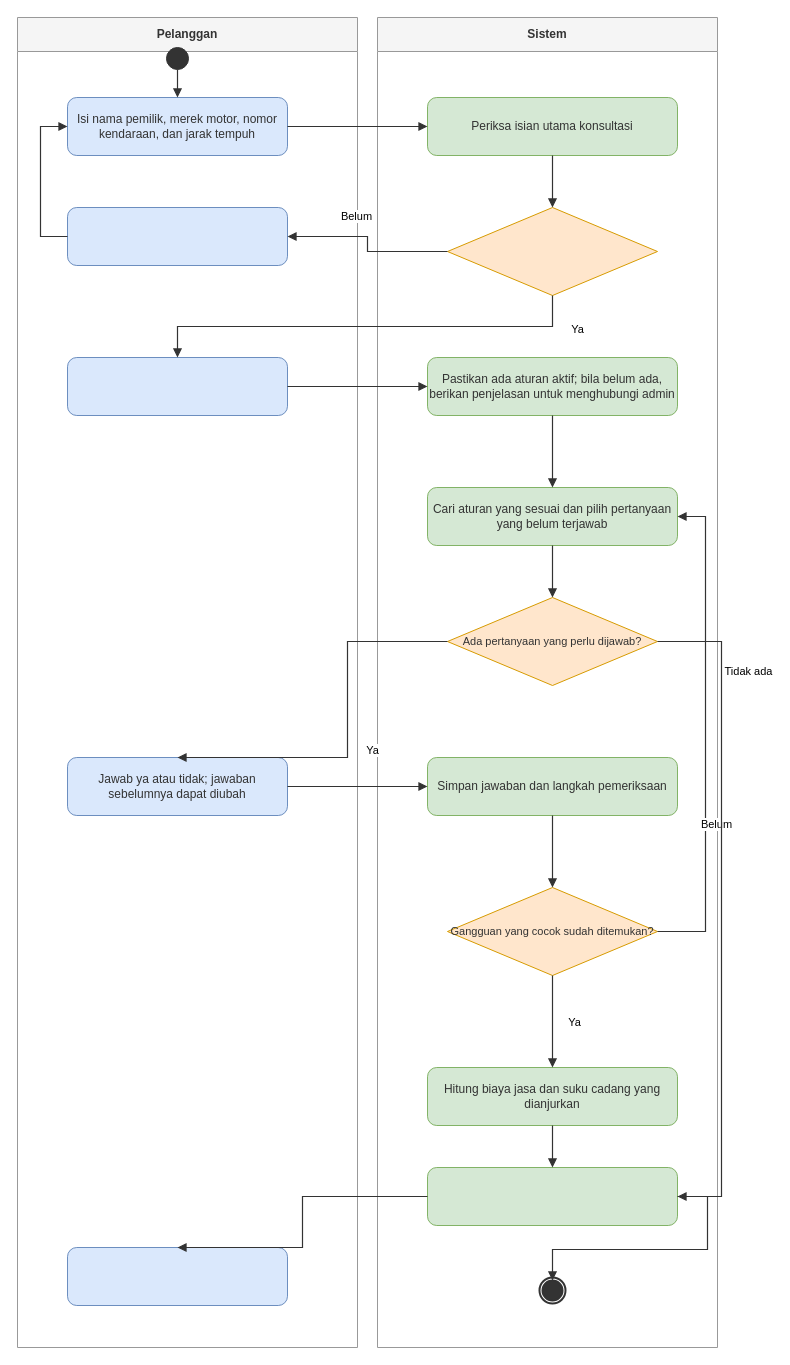
This 790x1365 diagram has some shape labels left out. Each missing label, with the box of its shape:
Baca penjelasan, lalu perbaiki isian utama: (66, 206, 288, 266)
Cetak atau unduh perintah kerja: (66, 1246, 288, 1306)
Isian utama sudah lengkap?: (446, 206, 658, 296)
Pilih gangguan yang dicurigai, atau pilih Belum tahu: (66, 356, 288, 416)
Simpan hasil; tampilkan gangguan, perkiraan biaya, dan saran: (426, 1166, 678, 1226)
